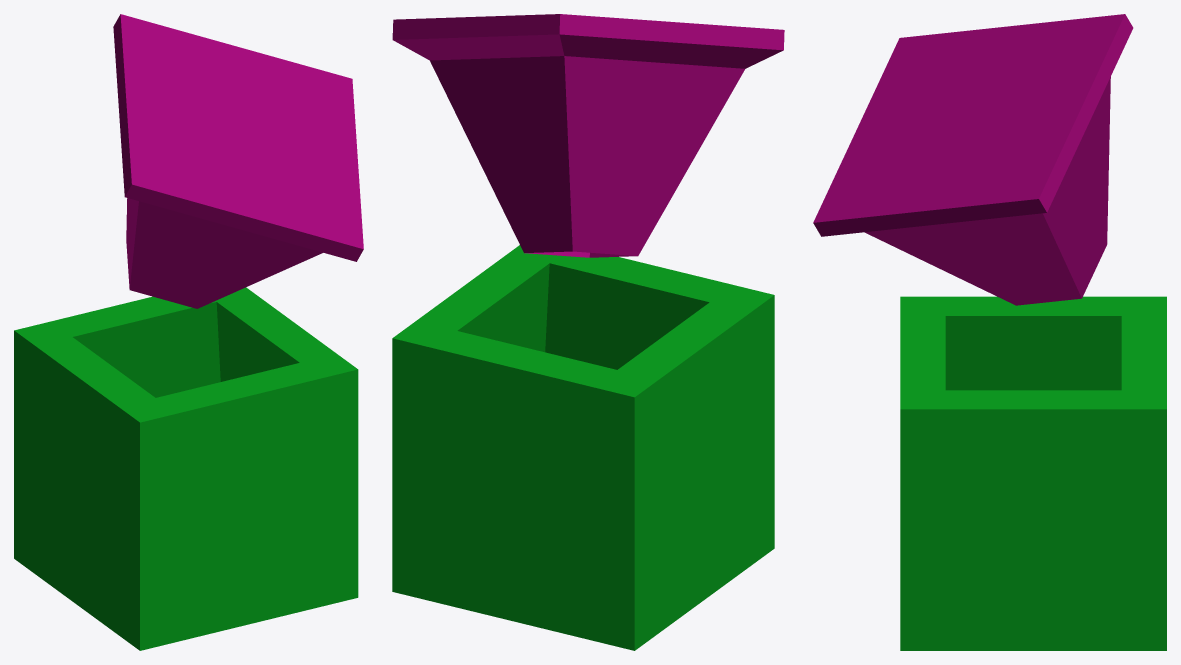
The model's file is AnimatedBox_000012.obj.
3 views of the same model, side by side, from view 1: azimuth 30°, elevation 25°; view 2: azimuth 150°, elevation 25°; view 3: azimuth 270°, elevation 25° (orthographic). The views are drawn at different scales.
Parts seen in each view (by area): view 1: Cube, Cube.001; view 2: Cube, Cube.001; view 3: Cube, Cube.001.
Part boxes in pixels (x1,y1,x2,y2): Cube: (14, 287, 358, 650); Cube.001: (113, 14, 363, 308); Cube: (392, 245, 774, 650); Cube.001: (392, 14, 784, 257); Cube: (900, 296, 1166, 650); Cube.001: (813, 14, 1133, 305).
Size of the model in its own units: 2.66 by 4.71 by 2.65.
